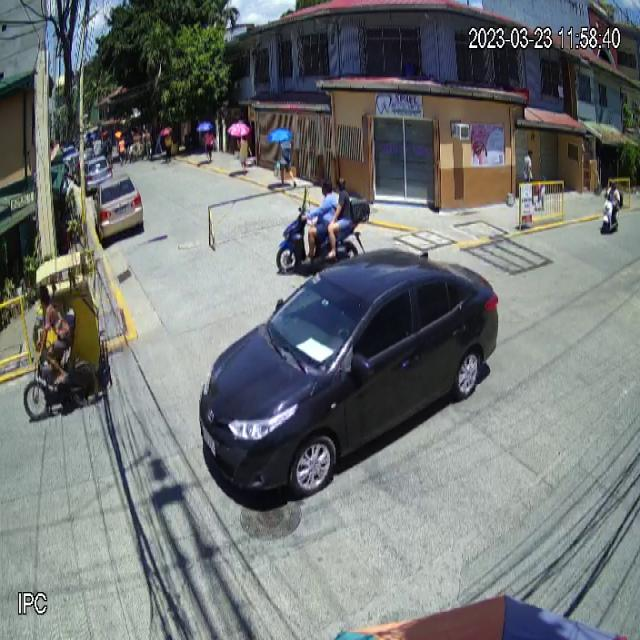Car: (198, 247, 499, 507), (94, 172, 144, 245)
Motorcycle: (277, 197, 370, 274)
Tricycle: (22, 250, 111, 420)
